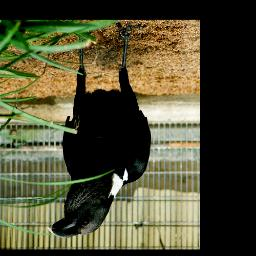Crow: (46, 21, 151, 239)
